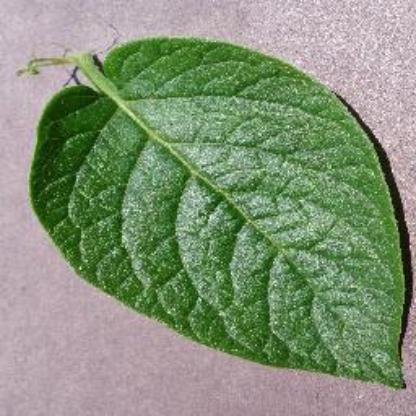Healthy-plant: (28, 35, 410, 398)
